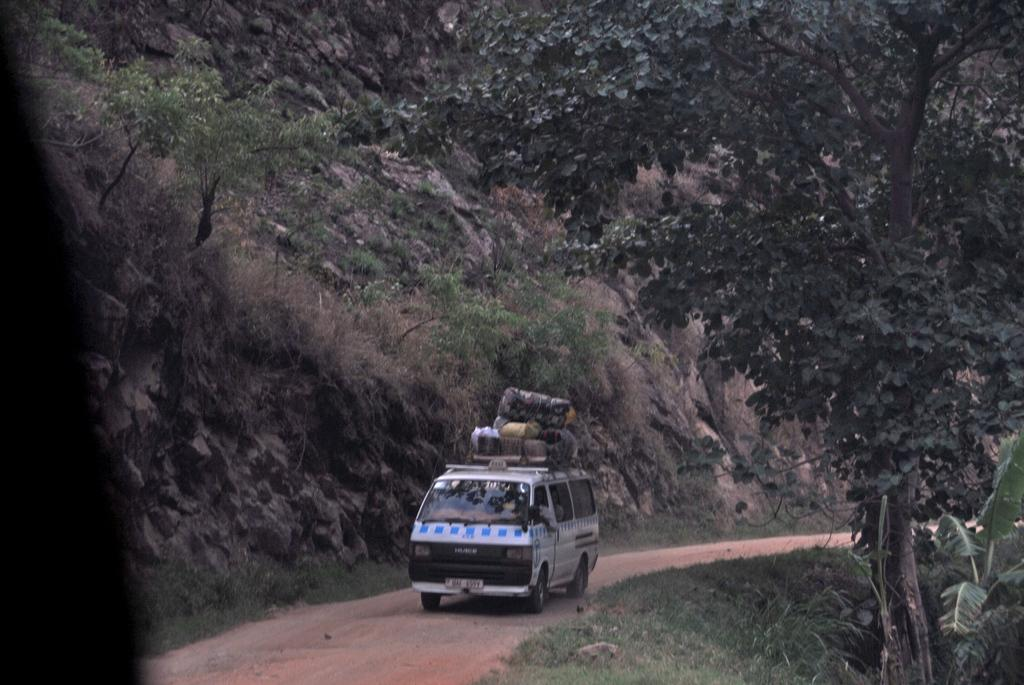vehicle: (409, 466, 601, 614)
